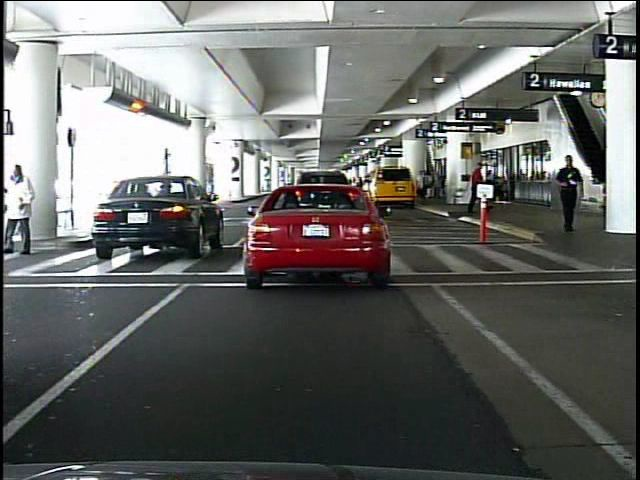person: (10, 163, 40, 257), (555, 152, 581, 235), (467, 162, 485, 216), (417, 166, 430, 202)
